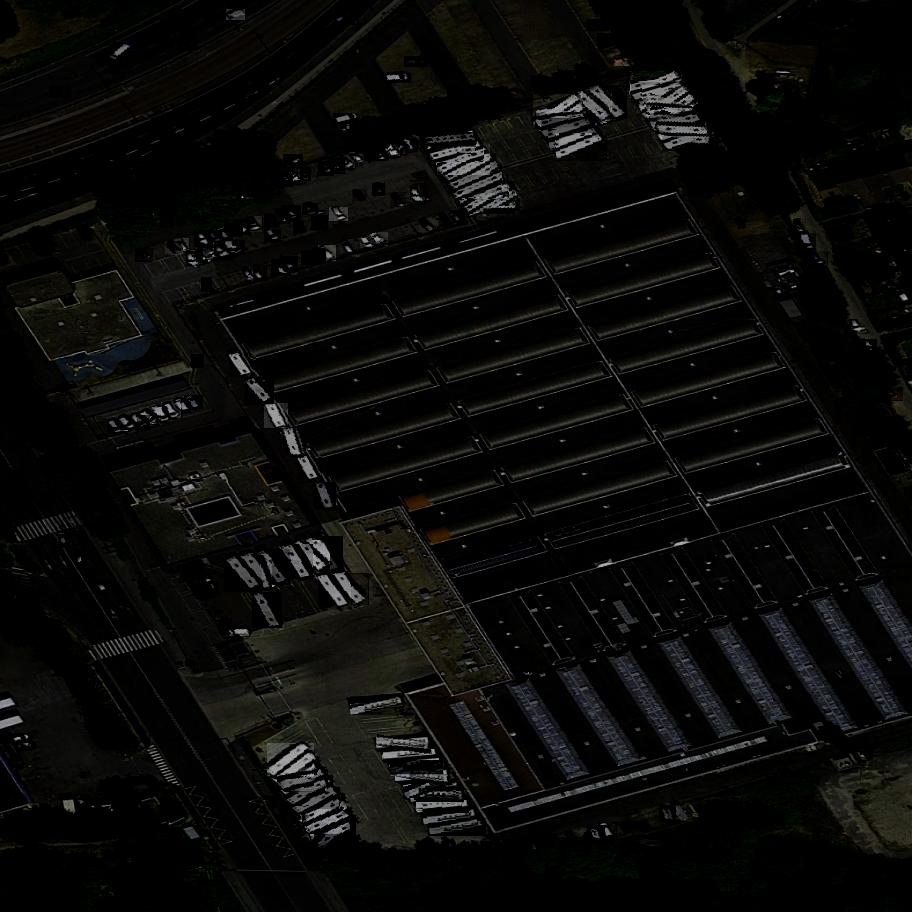large-vehicle: (643, 83, 694, 123), (462, 179, 515, 217), (534, 93, 583, 132), (267, 740, 314, 780), (441, 152, 496, 186), (302, 790, 345, 832), (437, 143, 490, 177), (314, 812, 356, 854), (448, 163, 503, 194), (287, 773, 334, 808), (290, 785, 340, 817), (630, 71, 683, 101), (403, 772, 457, 801), (453, 174, 508, 202), (662, 126, 719, 153), (225, 555, 263, 595), (557, 134, 607, 163), (256, 547, 291, 588), (591, 84, 628, 122), (293, 538, 331, 575), (319, 572, 353, 613), (575, 88, 612, 125), (331, 572, 369, 608), (430, 138, 484, 163), (252, 589, 283, 632), (632, 82, 689, 105), (278, 768, 328, 794), (390, 753, 444, 777), (312, 533, 343, 574), (283, 542, 313, 583), (549, 128, 600, 152), (305, 809, 352, 835), (541, 119, 595, 141), (246, 551, 272, 593), (351, 696, 405, 716), (429, 818, 486, 836), (394, 767, 449, 785), (422, 809, 477, 826), (536, 113, 591, 130), (271, 761, 320, 780), (245, 375, 274, 407), (651, 113, 705, 130), (282, 425, 305, 461), (229, 349, 255, 380), (423, 133, 476, 148), (264, 401, 288, 433), (314, 479, 336, 513), (383, 749, 439, 762), (298, 454, 322, 484), (409, 789, 464, 802), (376, 738, 431, 751), (646, 106, 700, 119), (657, 124, 711, 137), (417, 800, 469, 811), (464, 201, 519, 210)
small-vehicle: (109, 41, 134, 64), (334, 7, 356, 29), (161, 400, 182, 422), (282, 202, 302, 225), (328, 205, 348, 227), (215, 240, 235, 262), (194, 228, 214, 250), (152, 402, 171, 425), (222, 239, 245, 258), (598, 820, 617, 842), (587, 823, 605, 846), (880, 386, 903, 404), (223, 220, 243, 240), (185, 392, 203, 414), (808, 249, 828, 268), (107, 416, 126, 436), (390, 138, 411, 156), (245, 213, 263, 234), (139, 410, 160, 428), (334, 113, 359, 128), (279, 255, 298, 274), (262, 227, 281, 246), (233, 218, 252, 237), (131, 412, 150, 431), (420, 216, 439, 235), (340, 238, 358, 258), (173, 396, 191, 416), (118, 414, 138, 432), (271, 257, 288, 278), (49, 85, 71, 101), (371, 144, 390, 162), (318, 244, 337, 262), (165, 239, 183, 258), (92, 577, 109, 597), (283, 154, 304, 170), (599, 39, 620, 55), (800, 232, 816, 253), (861, 336, 877, 357), (384, 73, 411, 85), (276, 171, 294, 189), (369, 231, 388, 248), (390, 190, 407, 209), (660, 804, 676, 824), (179, 37, 199, 53), (384, 140, 400, 160), (274, 207, 290, 227), (301, 248, 317, 268), (216, 225, 232, 245), (411, 183, 426, 204), (135, 247, 153, 264), (318, 159, 334, 178), (331, 157, 346, 177), (232, 86, 255, 99), (402, 136, 419, 153), (288, 168, 304, 186), (338, 154, 356, 170), (74, 793, 90, 811), (849, 319, 865, 337), (242, 266, 258, 284), (312, 213, 328, 231), (196, 582, 218, 595), (265, 211, 280, 230), (254, 263, 268, 283), (587, 19, 610, 31), (440, 211, 455, 229), (303, 201, 318, 219), (203, 247, 221, 262), (227, 9, 246, 23), (404, 57, 428, 68), (12, 733, 32, 746), (175, 237, 191, 253), (207, 229, 223, 245), (353, 187, 368, 204), (349, 150, 364, 167), (312, 247, 326, 265), (186, 250, 200, 268), (360, 233, 374, 250), (362, 147, 376, 163), (598, 33, 615, 46), (793, 218, 806, 235), (192, 353, 205, 370), (300, 165, 312, 183), (615, 57, 635, 67), (197, 246, 208, 264), (451, 210, 465, 224), (373, 181, 385, 197), (75, 549, 87, 565), (59, 531, 70, 548), (202, 276, 213, 292), (169, 121, 188, 130), (17, 742, 36, 750), (294, 220, 304, 234), (230, 629, 249, 636), (13, 467, 24, 477)
